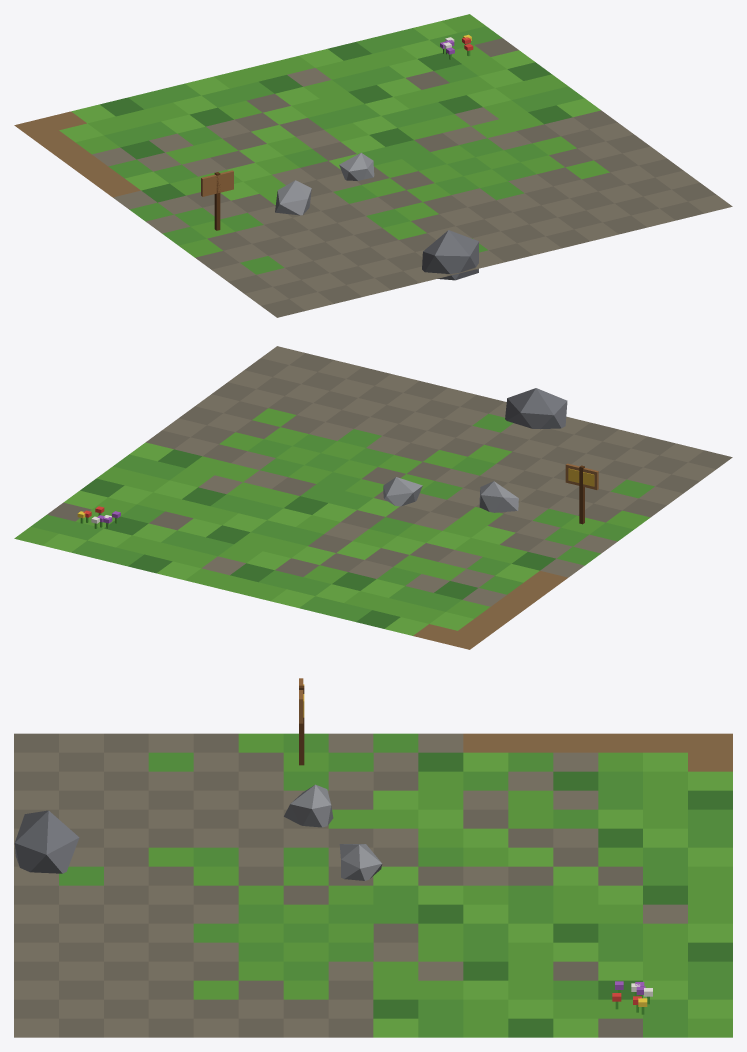
Rendered from chunk_6_16.glb.
3 views of the same model, one above another, from view 1: azimuth 30°, elevation 25°; view 2: azimuth 150°, elevation 25°; view 3: azimuth 270°, elevation 25° (orthographic). The views are drawn at different scales.
Visible parts, largest first — view 1: chunk_6_16; view 2: chunk_6_16; view 3: chunk_6_16.
Boxes of the visible parts, x1,y1,x2,y2 form: chunk_6_16: (14,14,732,317); chunk_6_16: (14,346,732,649); chunk_6_16: (14,678,732,1037).
Bounding box in the file's own units: 16 × 2.45 × 16.
